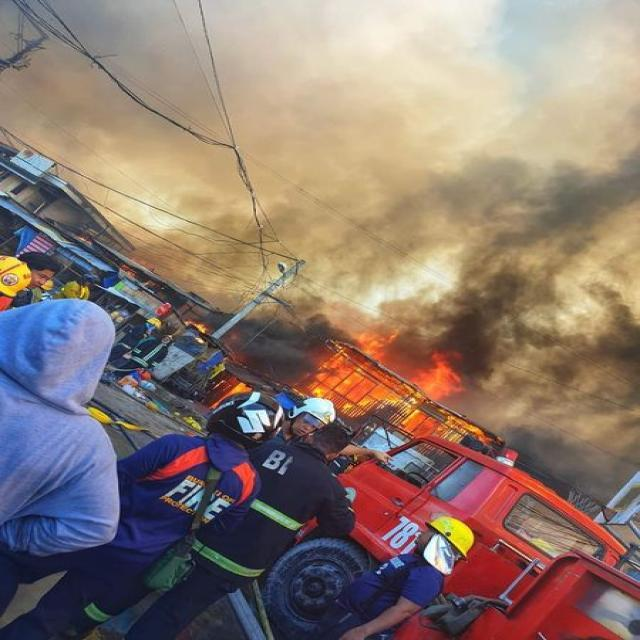Fire: (298, 322, 476, 446), (216, 372, 251, 414), (184, 320, 208, 333)
Smoke: (316, 107, 640, 506)
